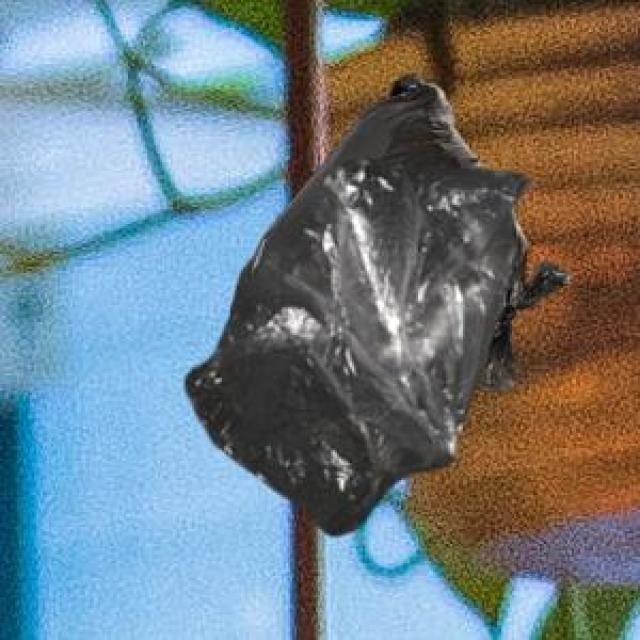miscellaneous trash: (226, 70, 568, 386)
